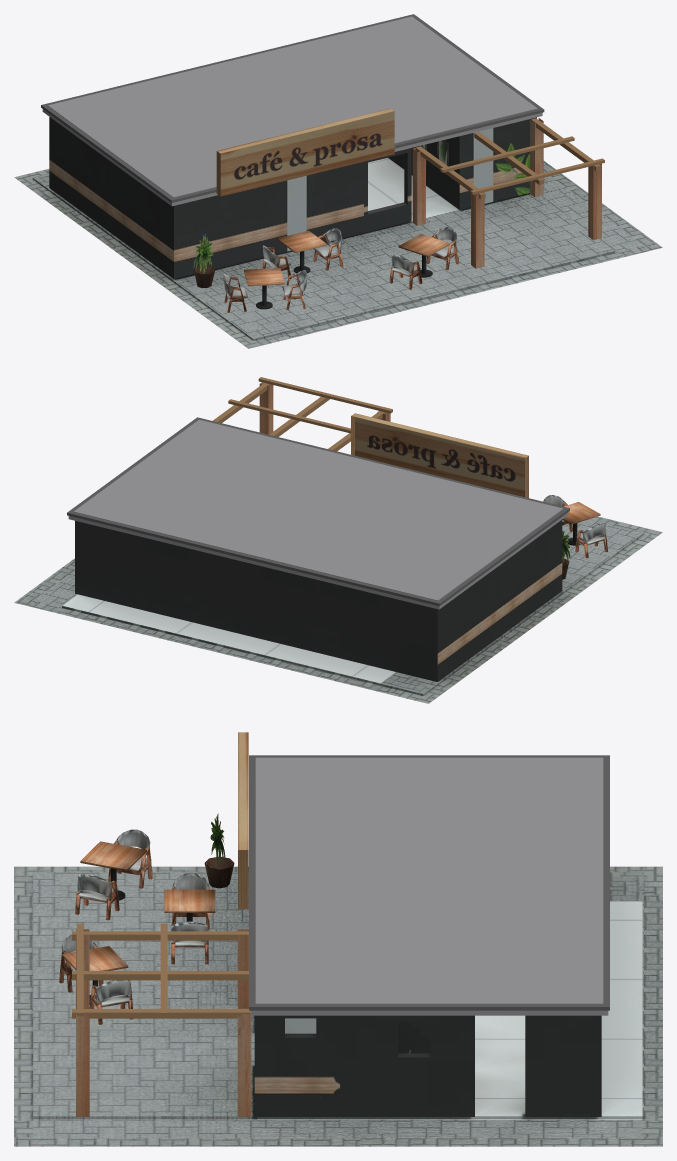
File: cafe-prosa.glb
3 renders of one model, top to bottom at view 1: azimuth 30°, elevation 25°; view 2: azimuth 150°, elevation 25°; view 3: azimuth 270°, elevation 25°, orthographic. The views are drawn at different scales.
Visible parts, largest first — view 1: Cafe, roof_inner, roof_trim, roof_slab, perg_lath_-5.2, perg_lath_-7.7, perg_beam_5.1, perg_beam_2.3, perg_beam_7.8; view 2: Cafe, roof_inner, roof_trim, roof_slab, perg_lath_-7.7, perg_lath_-5.2, perg_beam_5.1; view 3: Cafe, roof_inner, roof_trim, roof_slab, perg_beam_5.1, perg_beam_7.8, perg_beam_2.3, perg_lath_-5.2, perg_lath_-7.7.
Part boxes in pixels (left/top/right/bottom): Cafe: left=14, top=108, right=662, bottom=348; roof_inner: left=47, top=16, right=537, bottom=197; roof_trim: left=41, top=14, right=544, bottom=202; roof_slab: left=42, top=109, right=542, bottom=206; perg_lath_-5.2: left=440, top=136, right=574, bottom=172; perg_lath_-7.7: left=470, top=158, right=604, bottom=194; perg_beam_5.1: left=474, top=132, right=544, bottom=184; perg_beam_2.3: left=415, top=146, right=485, bottom=199; perg_beam_7.8: left=531, top=118, right=600, bottom=170; Cafe: left=14, top=382, right=662, bottom=703; roof_inner: left=73, top=419, right=563, bottom=600; roof_trim: left=67, top=417, right=569, bottom=606; roof_slab: left=68, top=512, right=568, bottom=609; perg_lath_-7.7: left=258, top=377, right=392, bottom=413; perg_lath_-5.2: left=228, top=399, right=350, bottom=433; perg_beam_5.1: left=269, top=396, right=329, bottom=436; Cafe: left=14, top=732, right=662, bottom=1146; roof_inner: left=255, top=757, right=603, bottom=1004; roof_trim: left=249, top=755, right=609, bottom=1010; roof_slab: left=250, top=1010, right=608, bottom=1015; perg_beam_5.1: left=72, top=971, right=248, bottom=980; perg_beam_7.8: left=72, top=1009, right=250, bottom=1018; perg_beam_2.3: left=72, top=931, right=248, bottom=940; perg_lath_-5.2: left=160, top=923, right=167, bottom=1016; perg_lath_-7.7: left=77, top=923, right=83, bottom=1016.
Size of the model in its own units: 19.76 by 5.6 by 19.36.
Materials: 20 (17 with a texture image).
